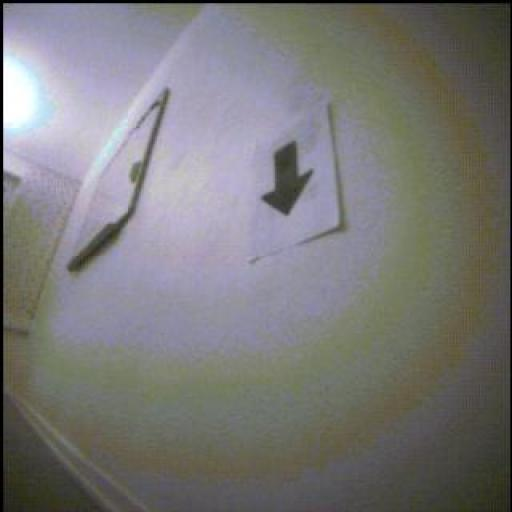arrow: (264, 142, 315, 215)
